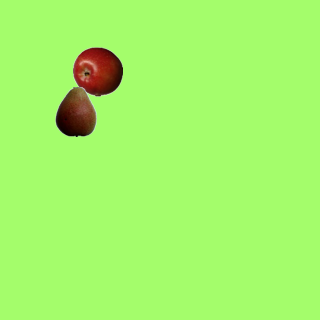Apple Braeburn: (72, 46, 122, 96)
Pear Forelle: (50, 86, 100, 136)
